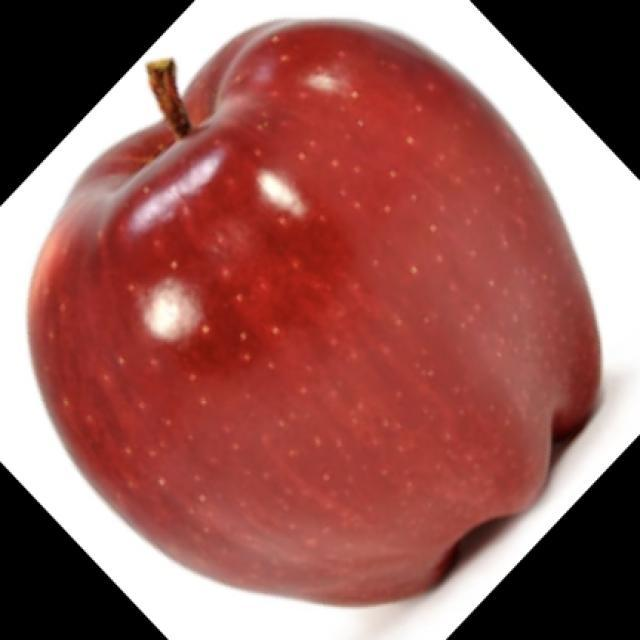Fresh Apple: (73, 32, 610, 613)
